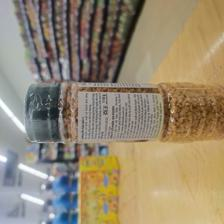TayNinh_green: (23, 79, 224, 145)
